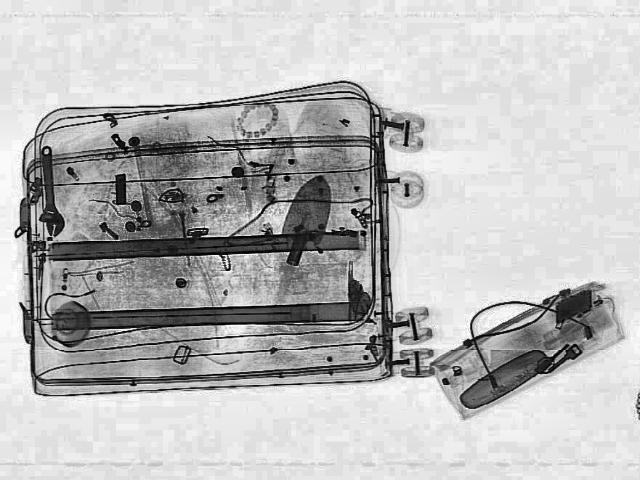Knife: (269, 170, 343, 268)
Wrench: (32, 144, 64, 236)
